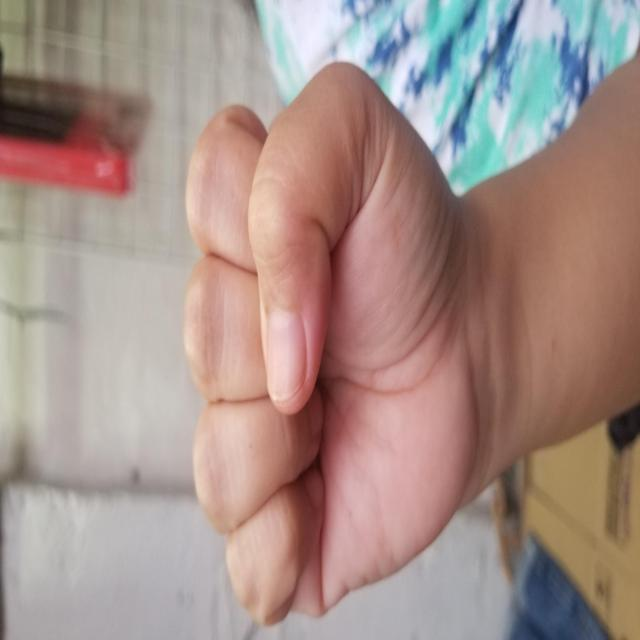S: (12, 182, 584, 476)
